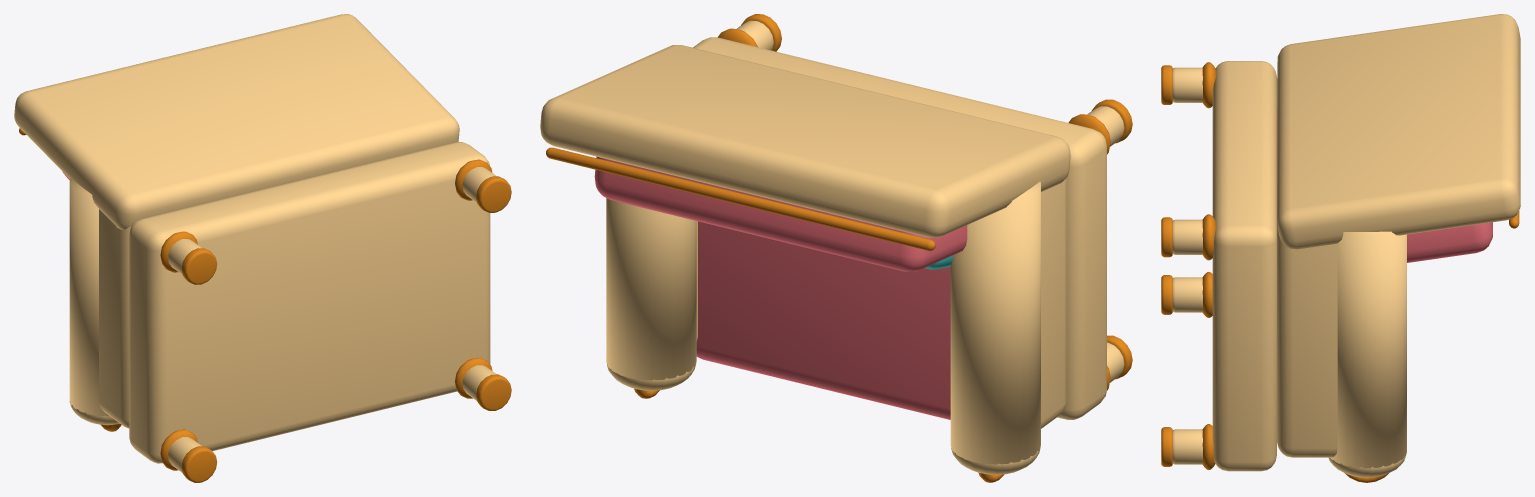
Rendered from ClassicArmchair_Premium.fbx.
3 renders of one model, left to right at view 1: azimuth 30°, elevation 25°; view 2: azimuth 150°, elevation 25°; view 3: azimuth 270°, elevation 25°, orthographic. The views are drawn at different scales.
Parts seen in each view (by area): view 1: ClassicArmchair; view 2: ClassicArmchair; view 3: ClassicArmchair.
Part boxes in pixels (x1,y1,x2,y2): ClassicArmchair: [14, 14, 511, 482]; ClassicArmchair: [540, 14, 1132, 482]; ClassicArmchair: [1161, 14, 1520, 482].
Bounding box in the file's own units: 1.35 × 1.07 × 1.12.
